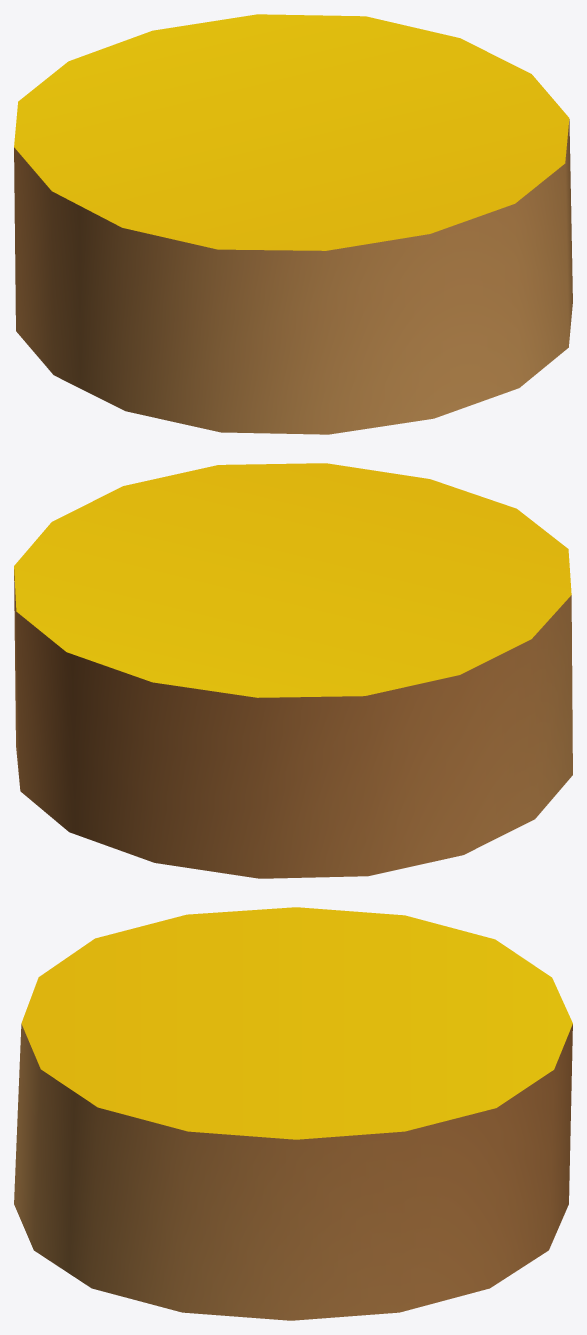
The model's file is Potato_Slice_02.glb.
The picture shows the model from 3 angles, top to bottom: view 1: azimuth 30°, elevation 25°; view 2: azimuth 150°, elevation 25°; view 3: azimuth 270°, elevation 25°; orthographic projection.
Visible parts, largest first — view 1: Potato_Slice_02; view 2: Potato_Slice_02; view 3: Potato_Slice_02.
Part boxes in pixels (x1=…): Potato_Slice_02: x1=14, y1=14, x2=572, y2=434; Potato_Slice_02: x1=14, y1=463, x2=572, y2=878; Potato_Slice_02: x1=14, y1=907, x2=572, y2=1320.
Bounding box in the file's own units: 0.1392 × 0.0503 × 0.141.
Materials: 1 (1 with a texture image).
